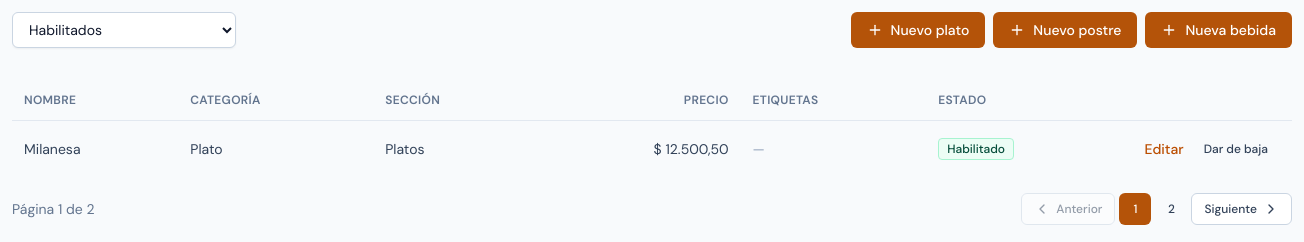
it: ProductosTab: paginación, baja y alta › si la página queda vacía y no es la primera, retrocede una (E22)
Expected: the text "Milanesa" is shown, [12,120,178,176]
Click the button named "Página 2" at point(1171, 208), box [1155,192,1187,224]
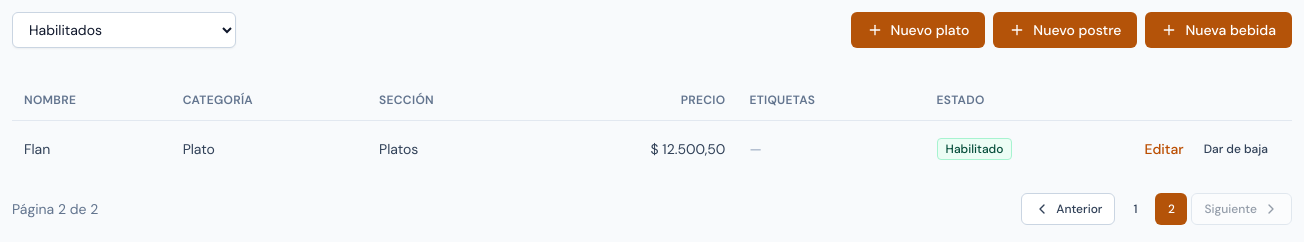
Click the button with aria-label "Dar de baja «Flan»" at point(1236, 148), box [1192,132,1280,164]
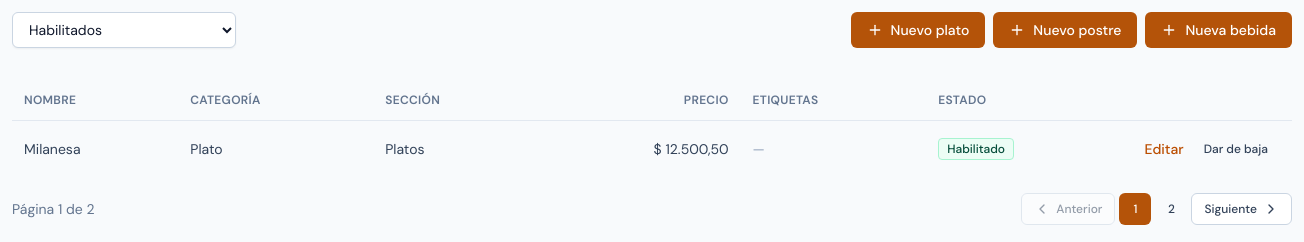
Expected: the text "Milanesa" is shown, [12,120,178,176]
